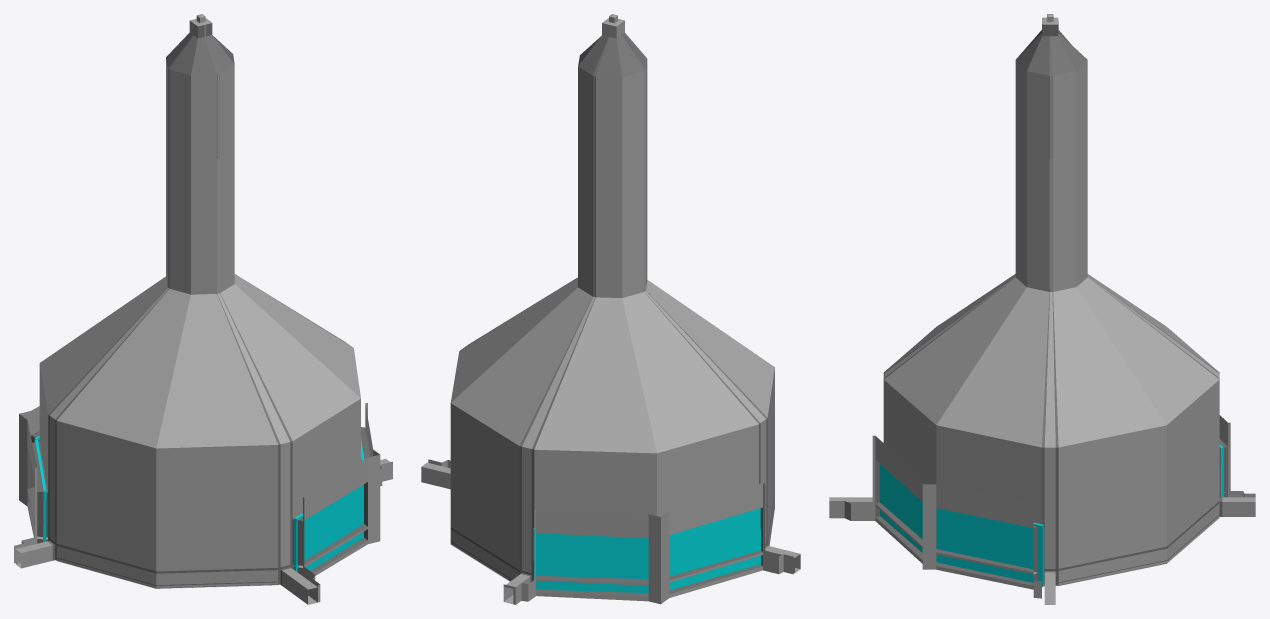
Rendered from HubRoomV2.fbx.
The picture shows the model from 3 angles, left to right: view 1: azimuth 30°, elevation 25°; view 2: azimuth 150°, elevation 25°; view 3: azimuth 270°, elevation 25°; orthographic projection. The views are drawn at different scales.
Visible parts, largest first — view 1: DaraghsHub, Window; view 2: DaraghsHub, Window3, Window2; view 3: DaraghsHub, Window1, Window.
Part boxes in pixels (x1,y1,x2,y2): DaraghsHub: [14, 14, 392, 604]; Window: [293, 484, 363, 571]; DaraghsHub: [421, 14, 800, 604]; Window3: [533, 528, 648, 593]; Window2: [669, 508, 760, 590]; DaraghsHub: [829, 14, 1255, 604]; Window1: [936, 508, 1043, 587]; Window: [879, 464, 922, 552].
Size of the model in its own units: 152 by 199 by 154.
